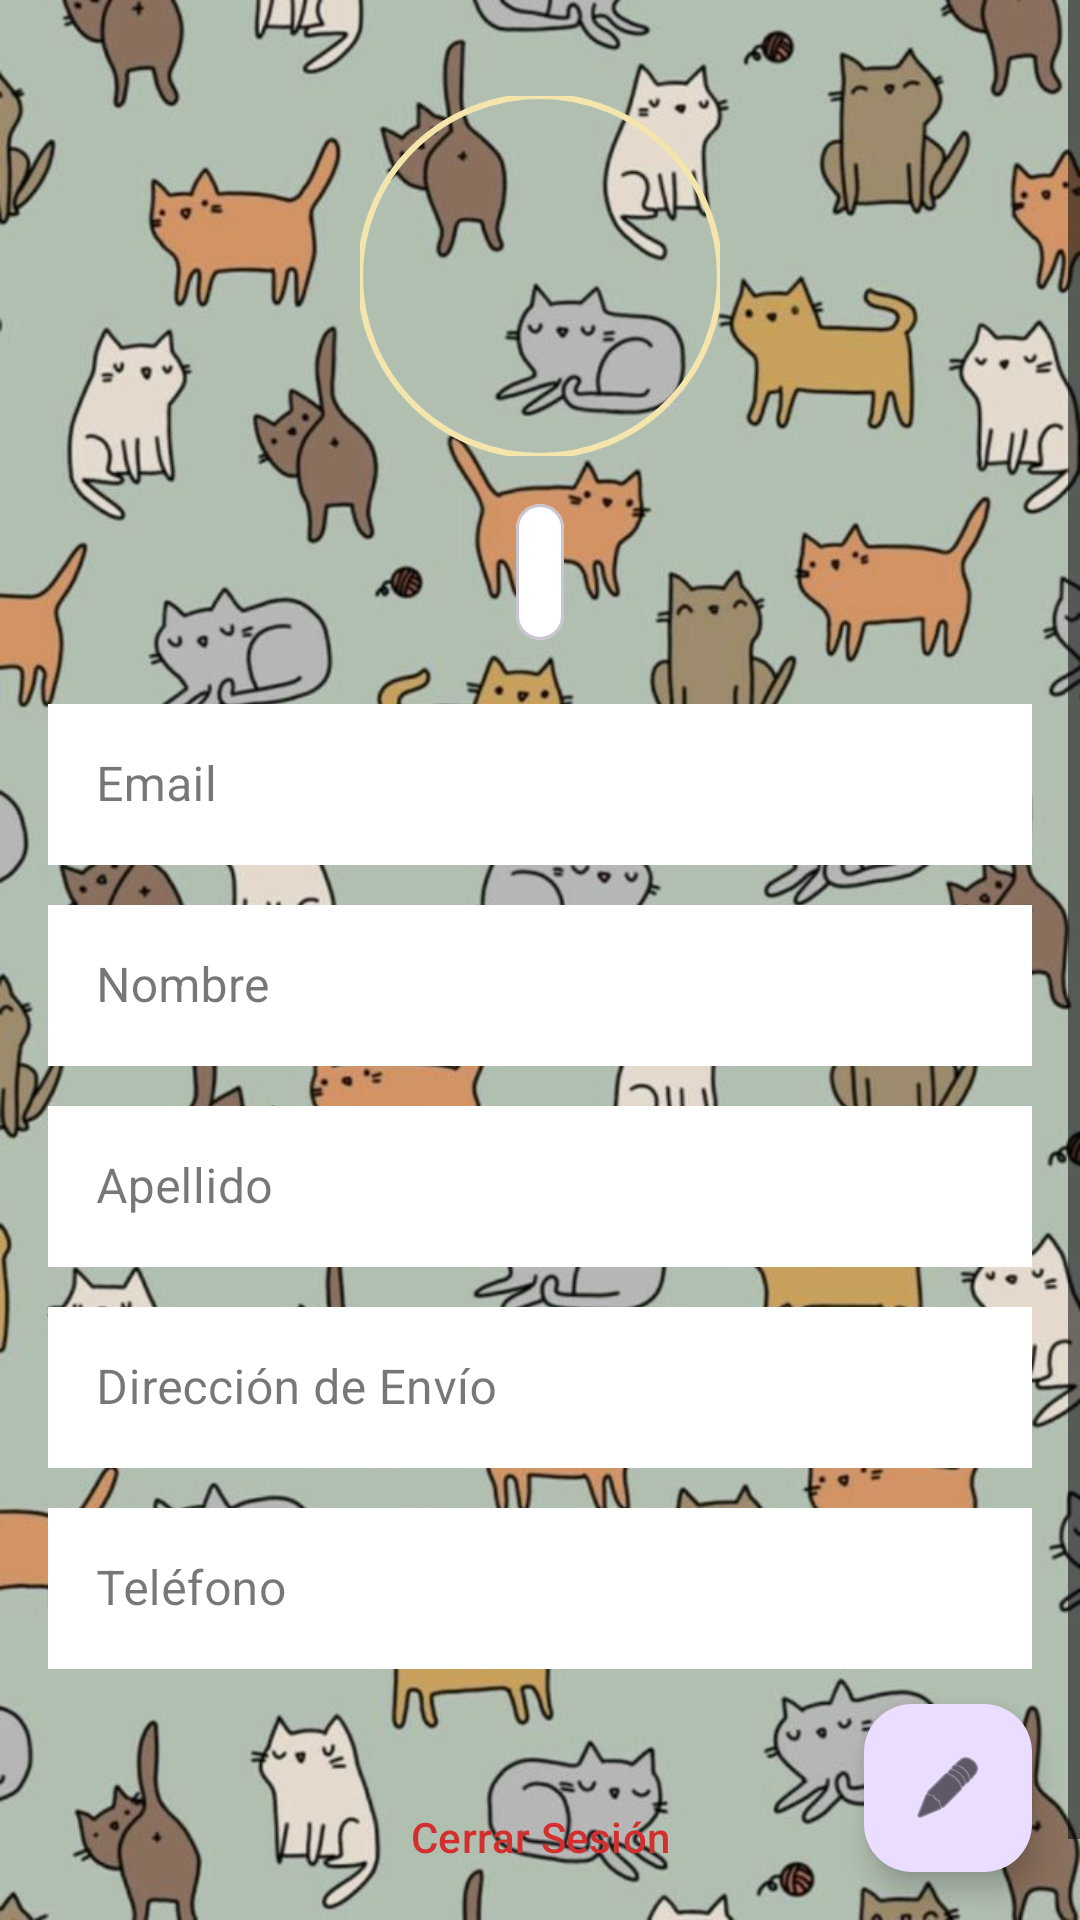

Icon click points for this 1080*1920 phone screenshot, format [x,y]:
Editar Perfil: [948,1788]
